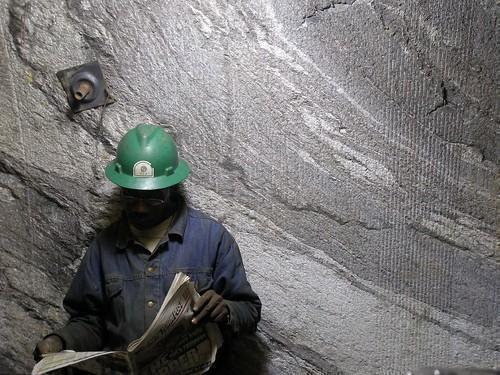helmet: (104, 125, 190, 190)
no-vest: (75, 212, 251, 347)
